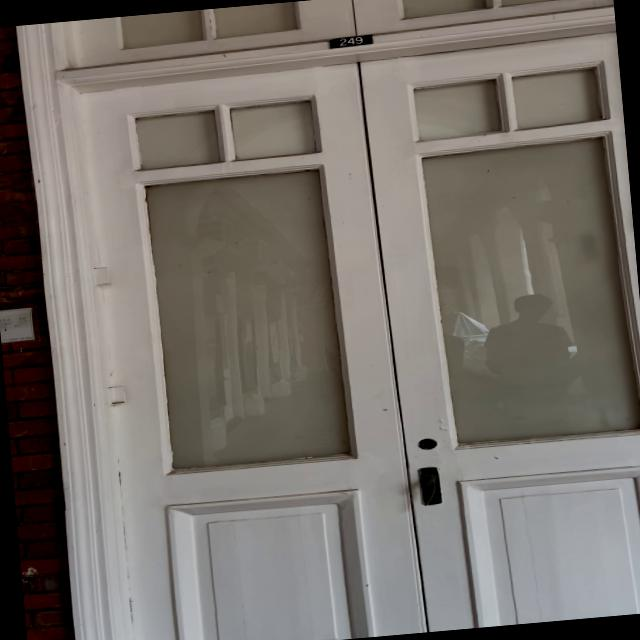room249: (328, 31, 376, 50)
